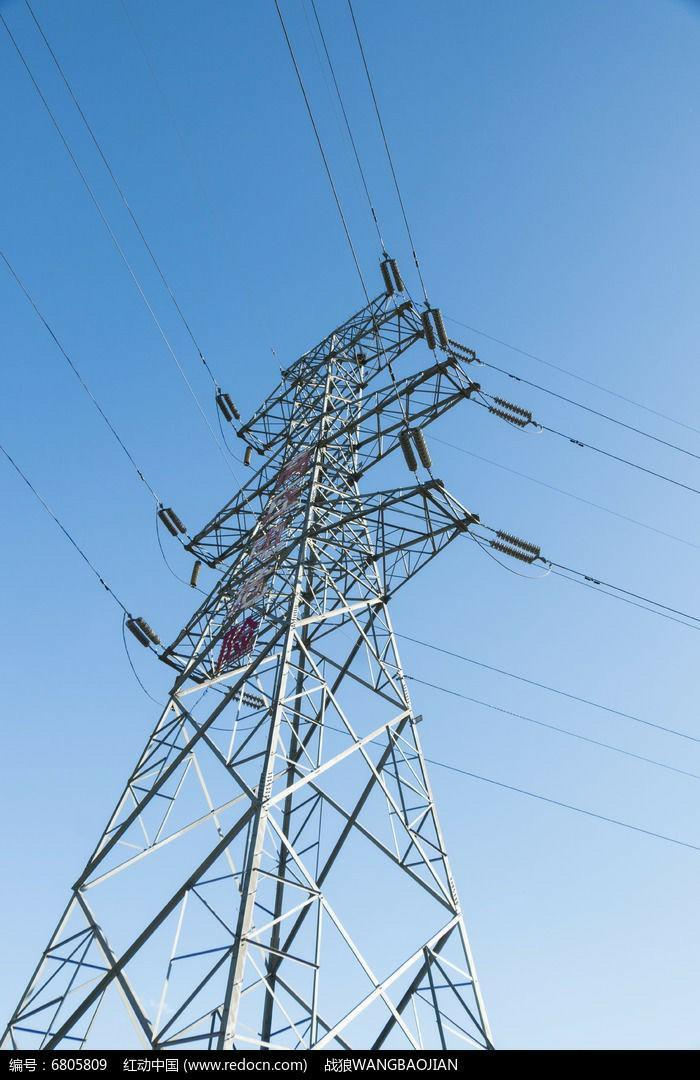power_tower: (0, 233, 543, 1046)
